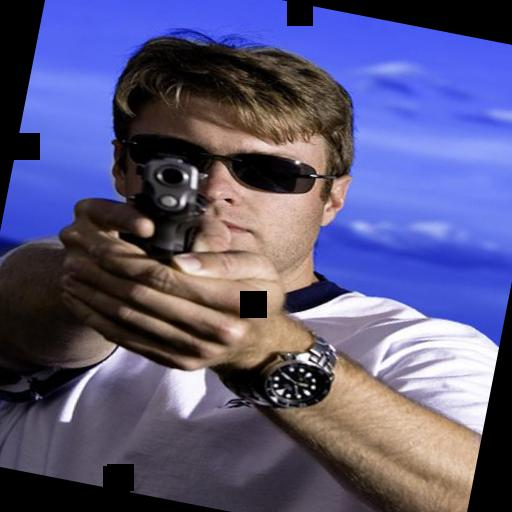Handgun: (121, 148, 209, 268)
